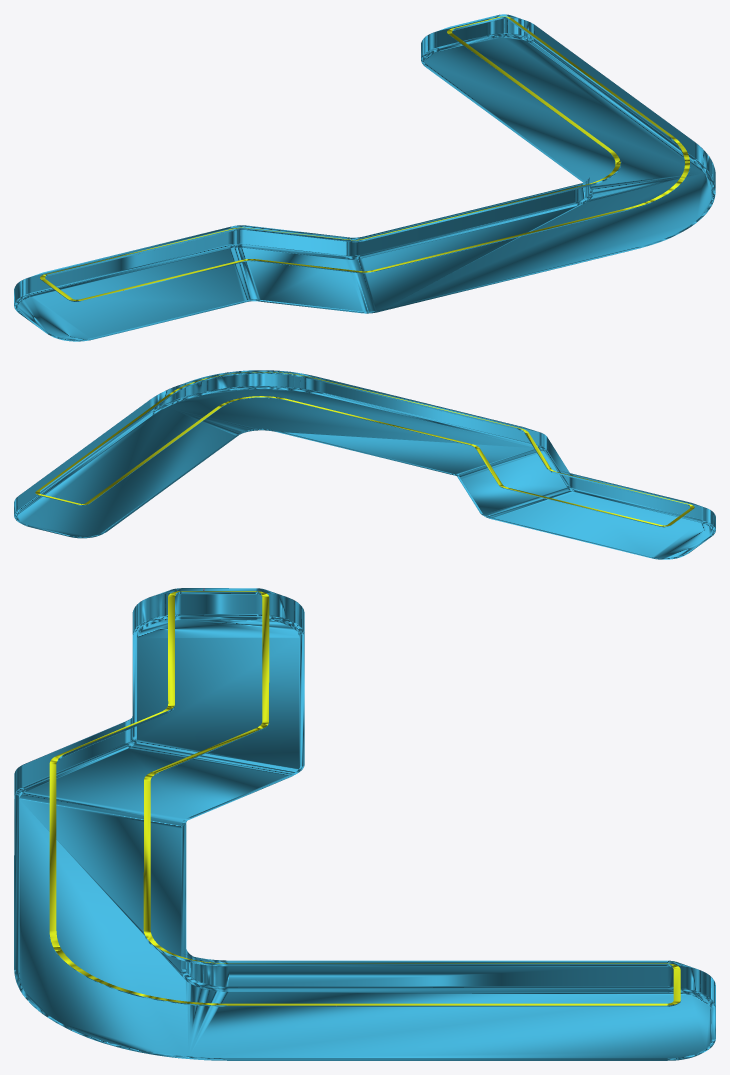
File: booth_plinth_2_b.glb
3 views of the same model, one above another, from view 1: azimuth 30°, elevation 25°; view 2: azimuth 150°, elevation 25°; view 3: azimuth 270°, elevation 25° (orthographic). The views are drawn at different scales.
Bounding box in the file's own units: 9.26 × 0.4325 × 6.17.
